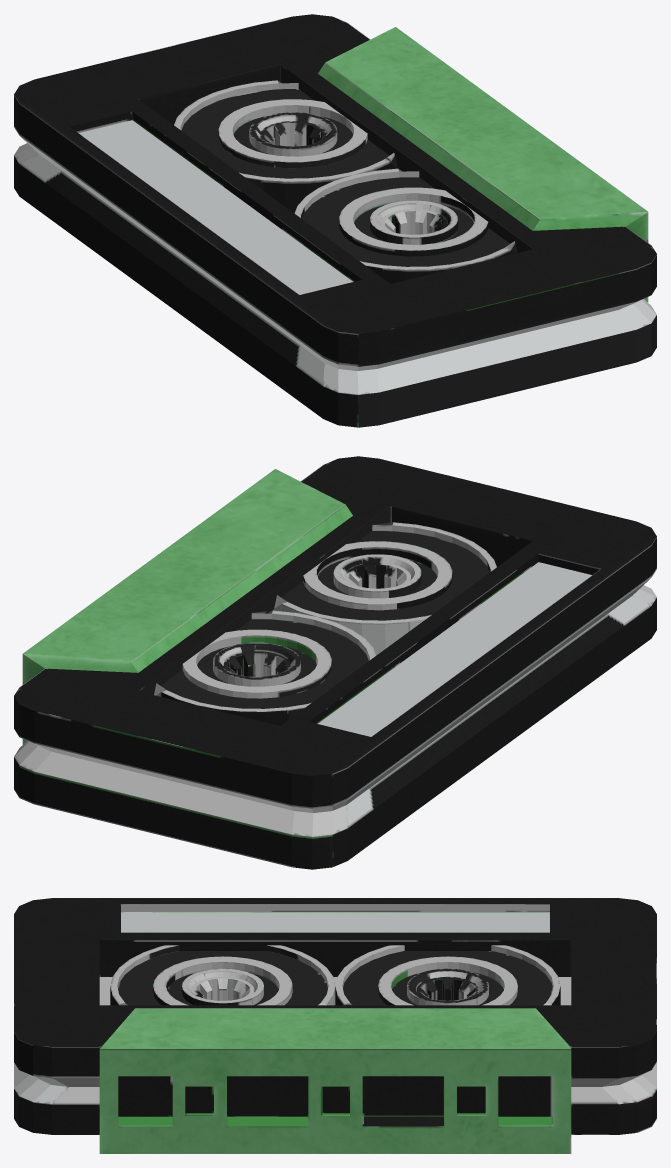
The model's file is cassete2.fbx.
3 views of the same model, one above another, from view 1: azimuth 30°, elevation 25°; view 2: azimuth 150°, elevation 25°; view 3: azimuth 270°, elevation 25° (orthographic). The views are drawn at different scales.
Parts seen in each view (by area): view 1: Cube; view 2: Cube; view 3: Cube.
Boxes of the visible parts, <box> form: Cube: <box>14,14,656,427</box>; Cube: <box>14,456,656,869</box>; Cube: <box>14,898,656,1153</box>.
Bounding box in the file's own units: 235 × 72 × 400.
1 material, 1 textured.
